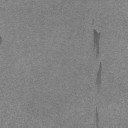red iron: (93, 29, 100, 57), (96, 62, 102, 92), (96, 108, 99, 128), (0, 35, 2, 45), (92, 18, 94, 25)
